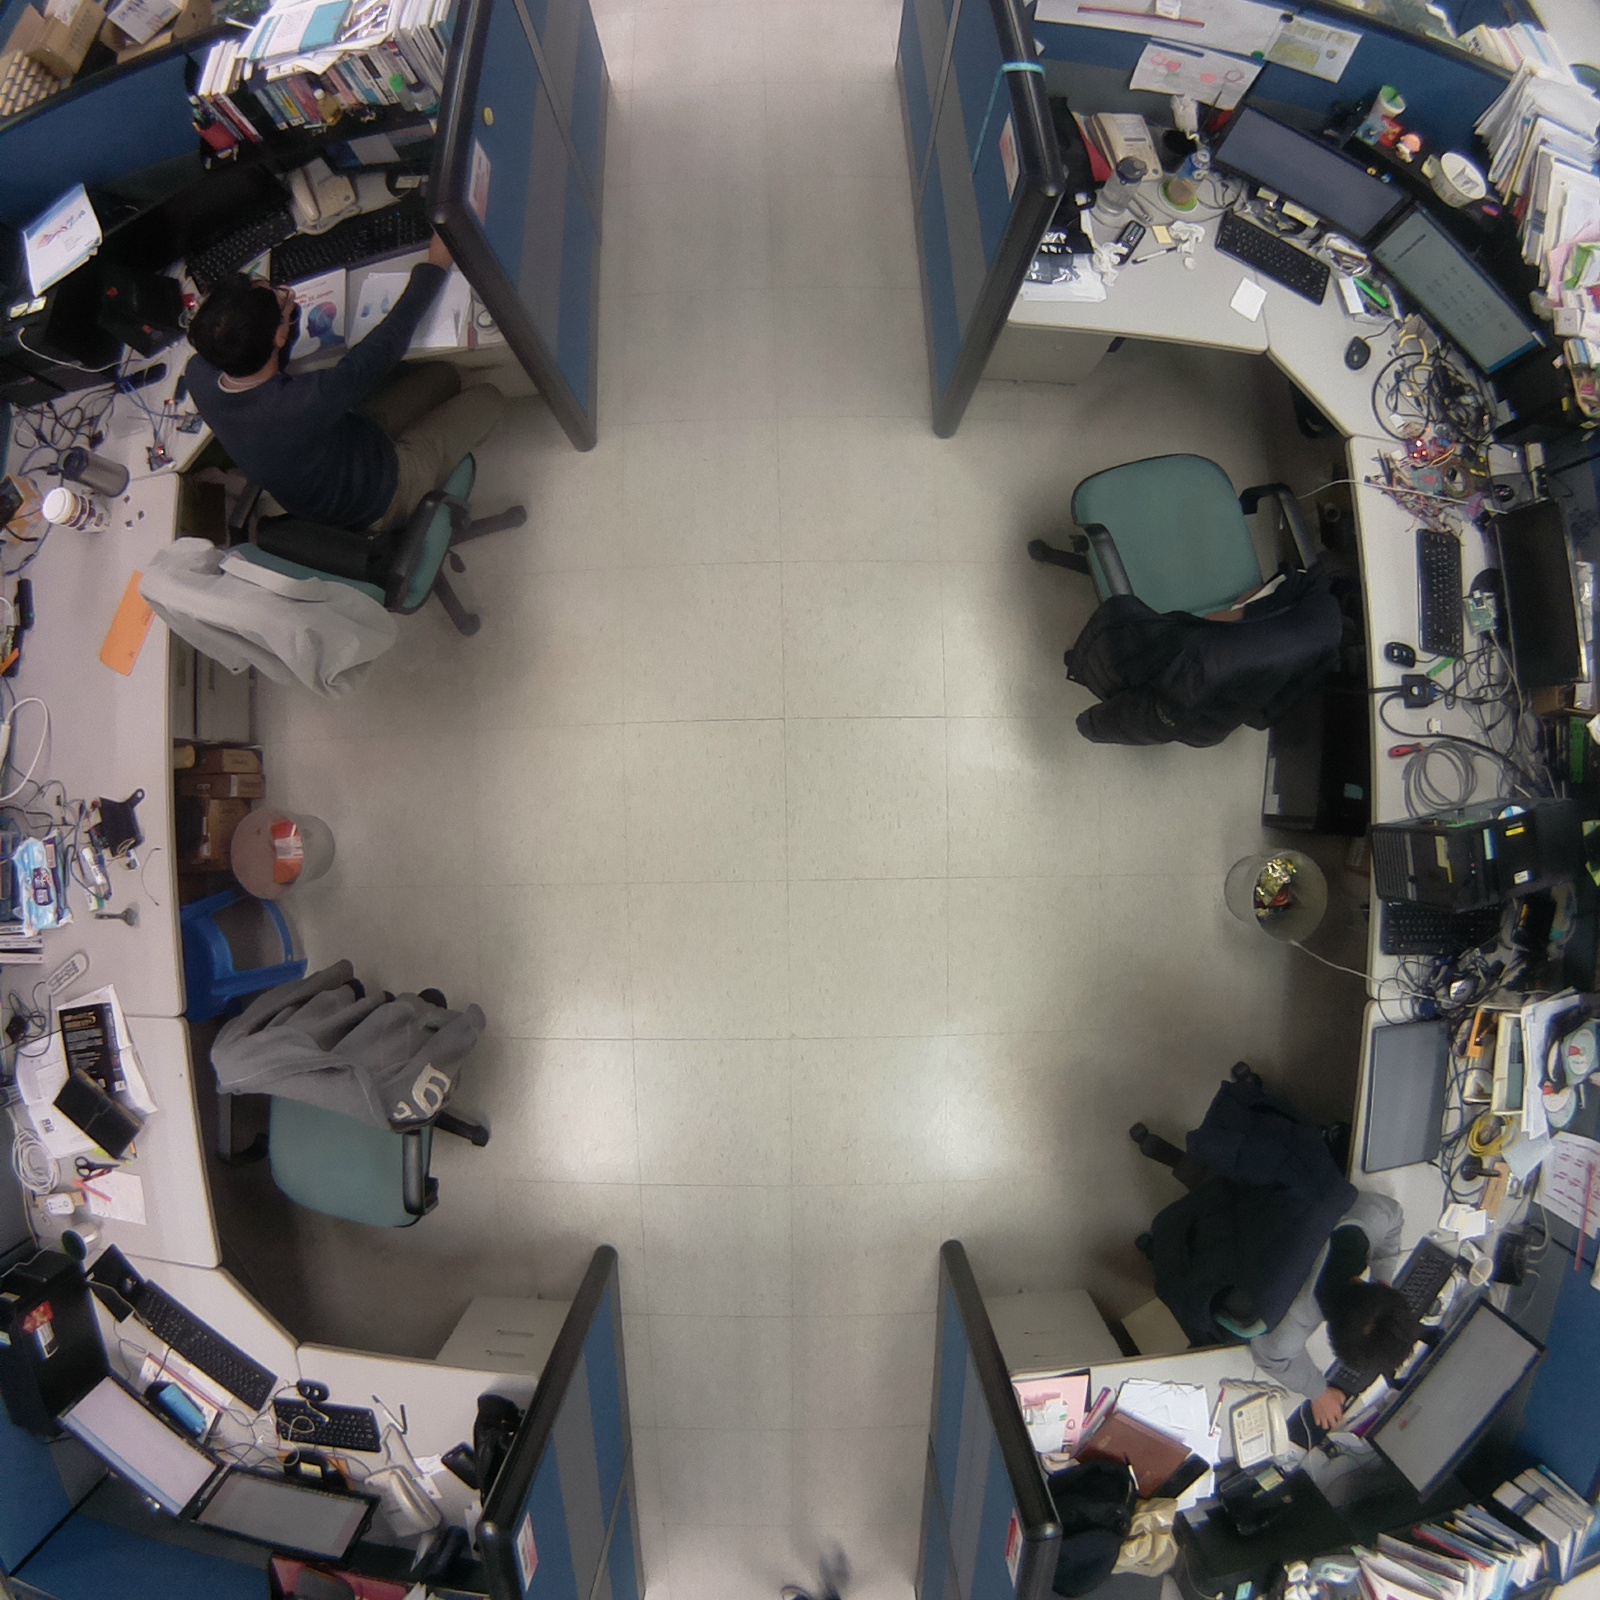chair: (1014, 437, 1392, 785), (189, 942, 532, 1253)
sitting: (116, 188, 551, 722), (1116, 1042, 1449, 1453)
